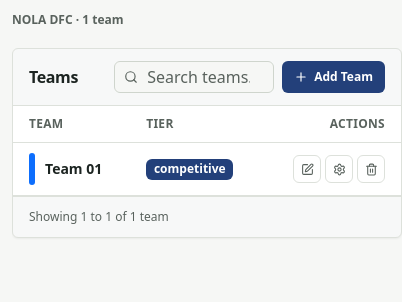
TeamList › says so plainly when nothing matches
This screenshot has width=402, height=302.
In the search field labelled "Search teams...": coordinates (194, 77) left=114, top=61, right=274, bottom=93, type "zzz"
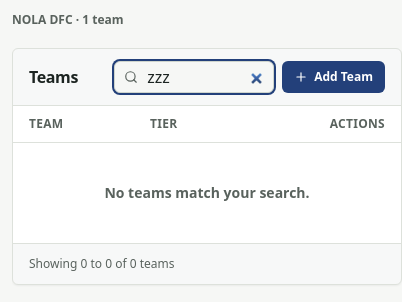
Now the text "No teams match your search." is shown, box left=13, top=142, right=401, bottom=243
